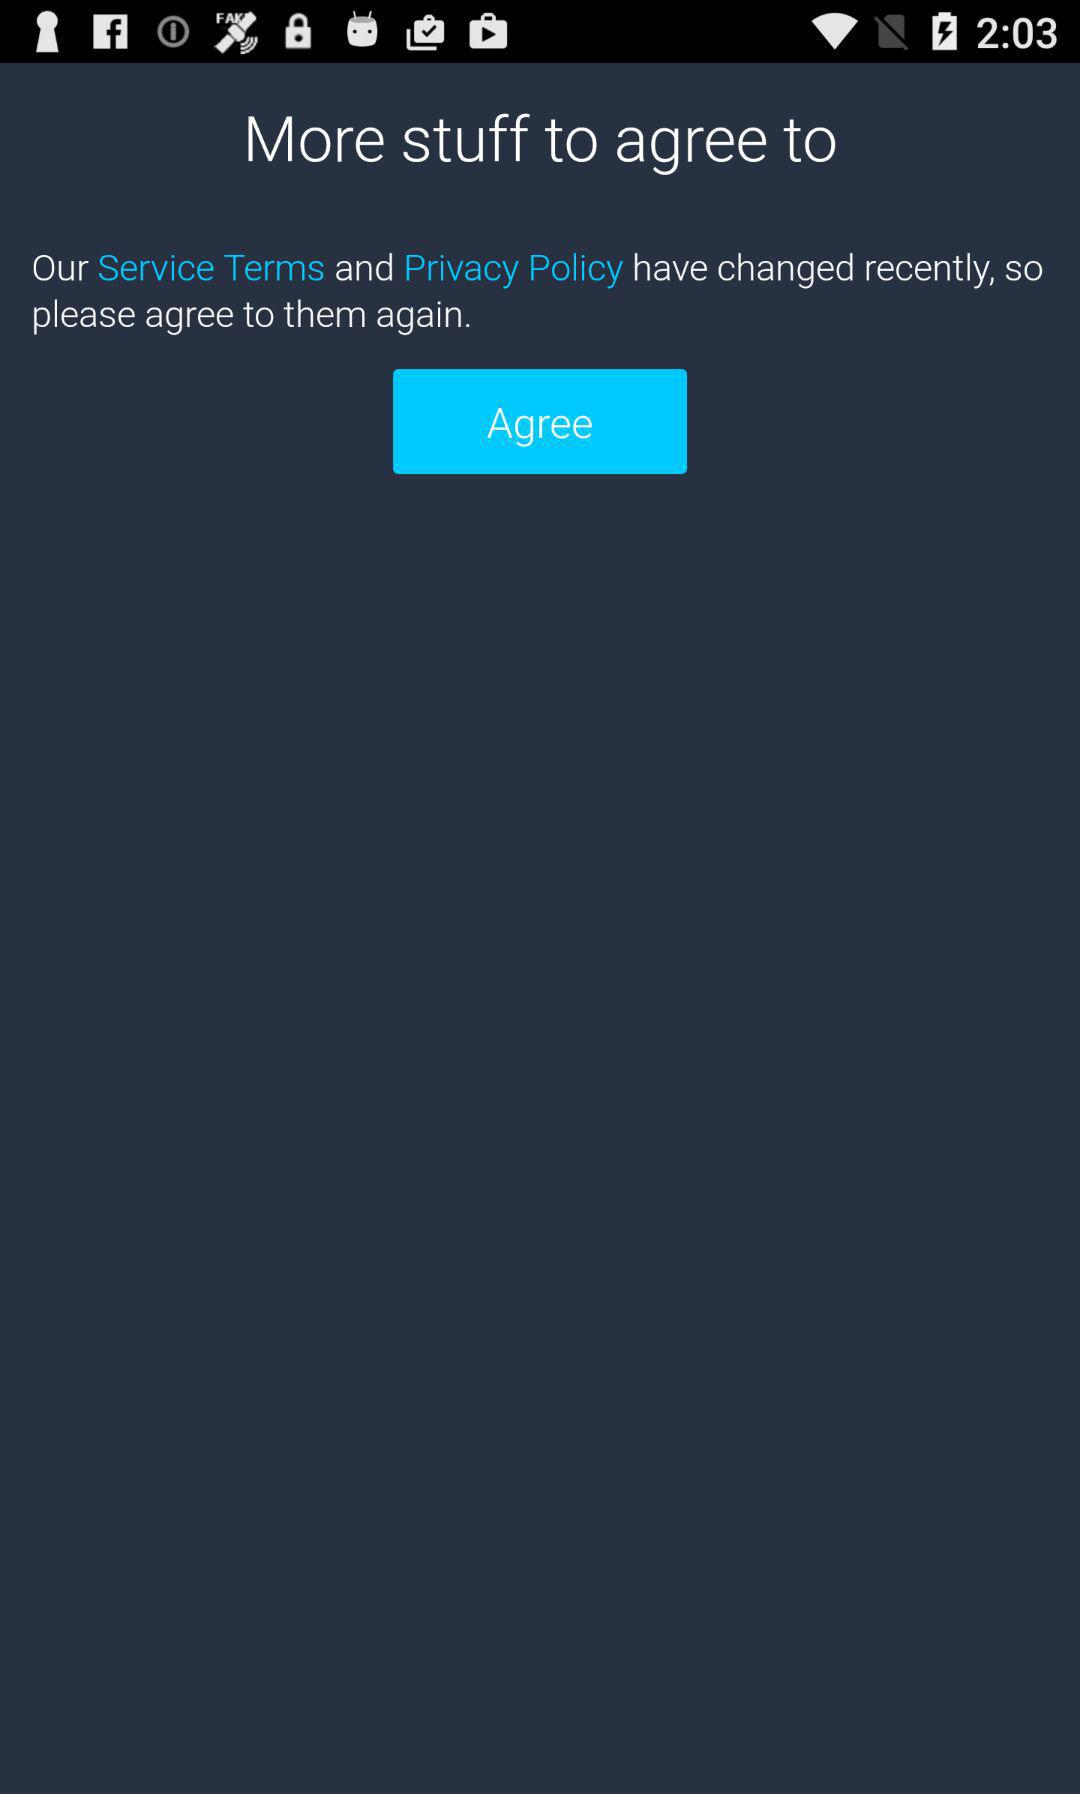Text: (32, 251, 1045, 338), (245, 111, 838, 179)
TextButton: (393, 369, 688, 475)
UpperTaskBar: (1, 1, 1080, 64)
